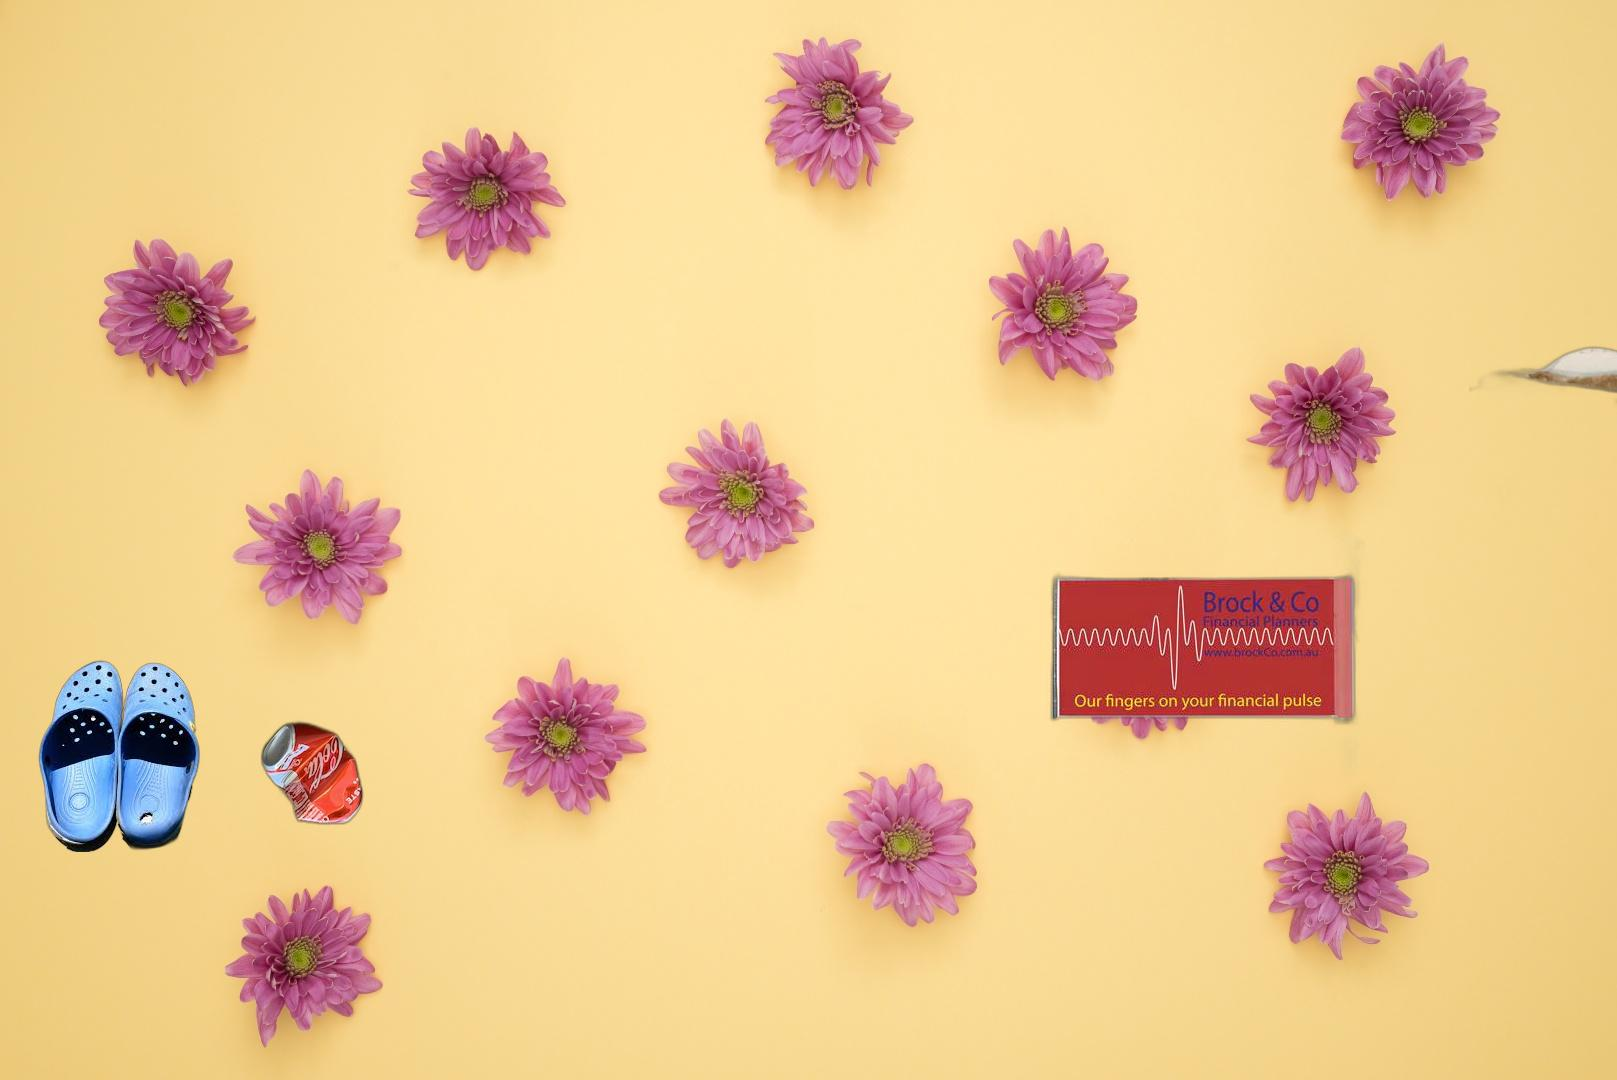metal-cans: (258, 716, 367, 830)
penholder: (793, 512, 1369, 1080)
shoes: (36, 658, 202, 852)
trashbox-cardboard: (1469, 344, 1617, 670)
